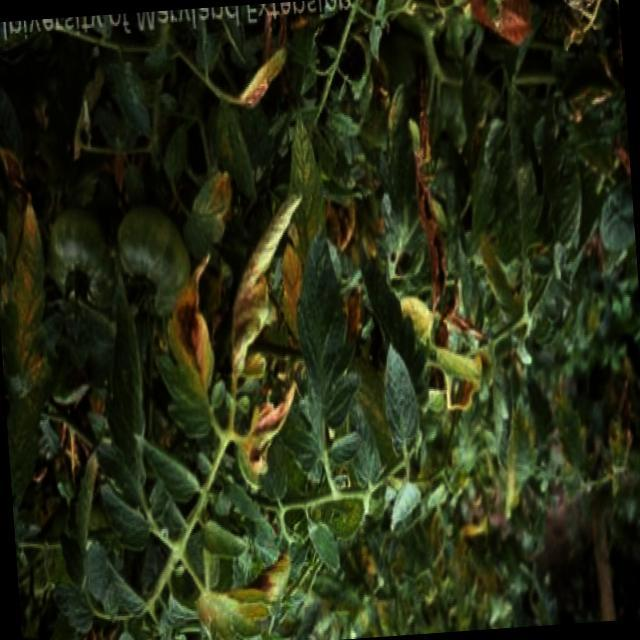Tomato Early blight leaf: (214, 196, 317, 390), (0, 146, 56, 395), (160, 258, 223, 446), (196, 547, 303, 640), (231, 382, 312, 483)
Tomato healthy leaf: (90, 284, 154, 498), (290, 235, 353, 432), (134, 430, 200, 506), (381, 340, 418, 457), (307, 518, 342, 574)
